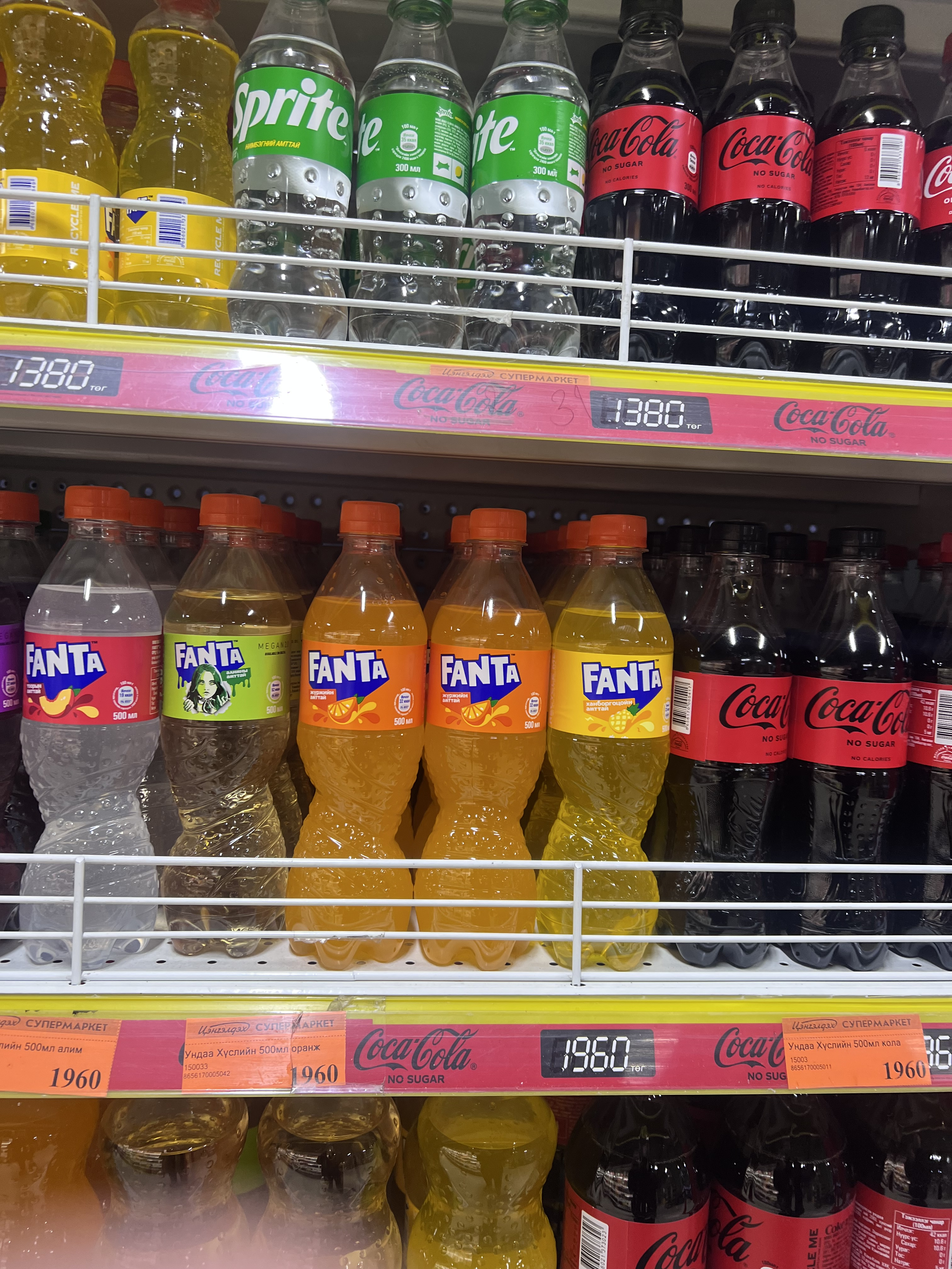coca_cola_500ml: (772, 527, 910, 970), (659, 522, 791, 967), (583, 0, 702, 362), (811, 4, 924, 263), (700, 0, 814, 256), (888, 533, 952, 969), (917, 35, 952, 270)
fanta_500ml: (152, 479, 290, 976), (20, 460, 152, 977), (293, 495, 422, 984), (427, 498, 548, 984), (553, 510, 667, 990)
sprite_500ml: (354, 2, 476, 366), (238, 2, 351, 353), (476, 7, 582, 371)
